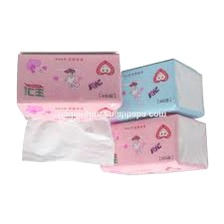tissue: (10, 47, 126, 125), (92, 55, 209, 127), (95, 109, 212, 180), (17, 113, 118, 169)
